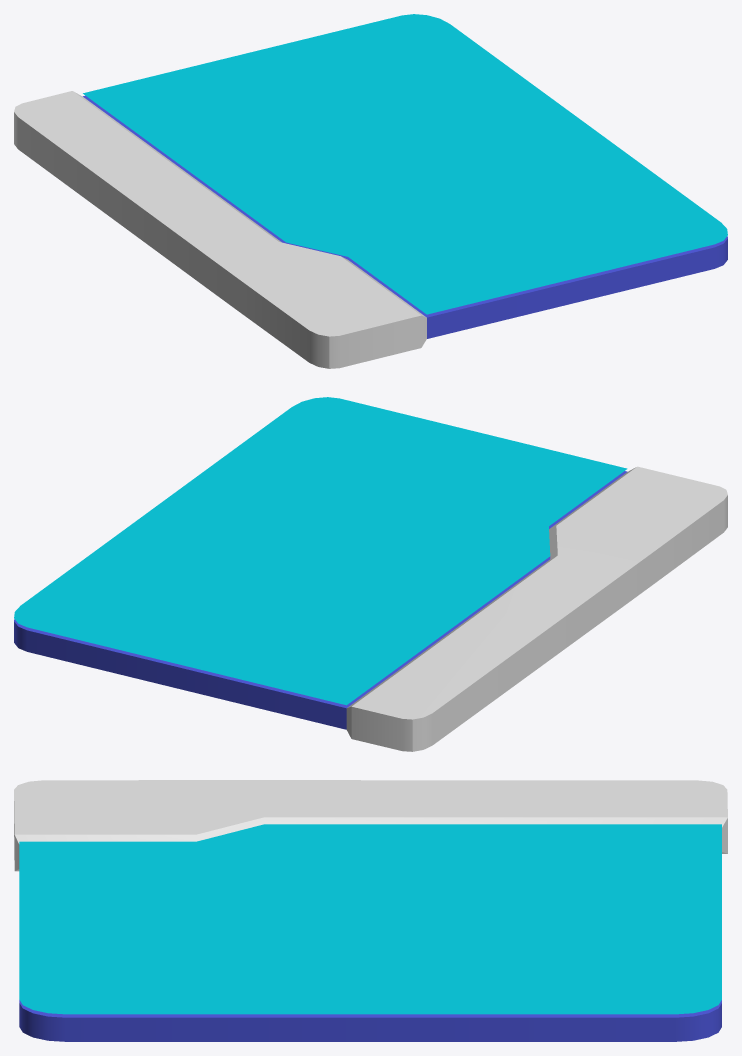
The model's file is Tablette.fbx.
3 views of the same model, one above another, from view 1: azimuth 30°, elevation 25°; view 2: azimuth 150°, elevation 25°; view 3: azimuth 270°, elevation 25° (orthographic). The views are drawn at different scales.
Visible parts, largest first — view 1: Cube.011, Cube.007; view 2: Cube.011, Cube.007; view 3: Cube.011, Cube.007.
Boxes of the visible parts, x1=… form: Cube.011: x1=83, y1=14, x2=727, y2=314; Cube.007: x1=14, y1=91, x2=727, y2=368; Cube.011: x1=14, y1=397, x2=627, y2=705; Cube.007: x1=14, y1=466, x2=727, y2=751; Cube.011: x1=19, y1=824, x2=721, y2=1014; Cube.007: x1=14, y1=780, x2=727, y2=1041.
Bounding box in the file's own units: 20.53 × 1.52 × 26.76.
